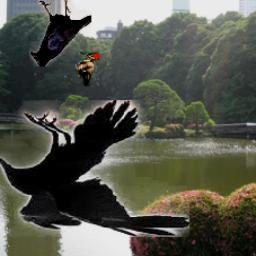Crow: (0, 100, 191, 237), (30, 0, 92, 67)
Woodpecker: (74, 53, 99, 87)
